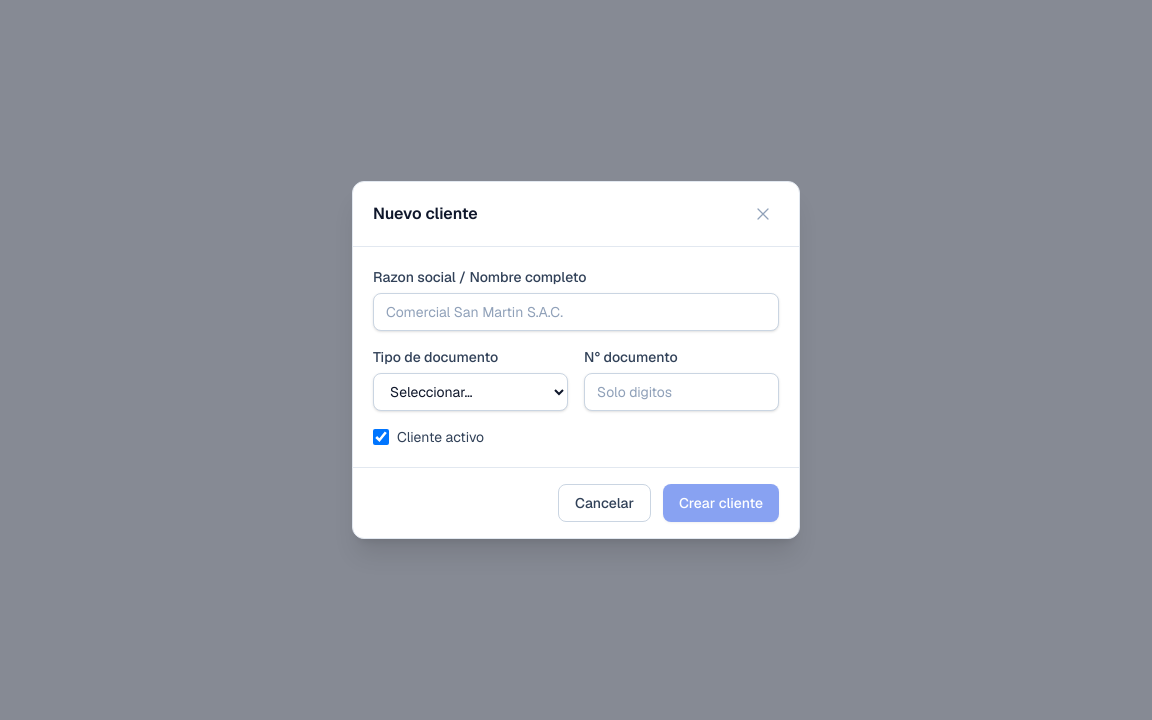
Scenario: ClientFormModal › shows validation hint when DNI has wrong number of digits
The image size is (1152, 720).
Select "DNI" in the dropdown labelled "Tipo de documento": (470, 392) [373,373,568,411]
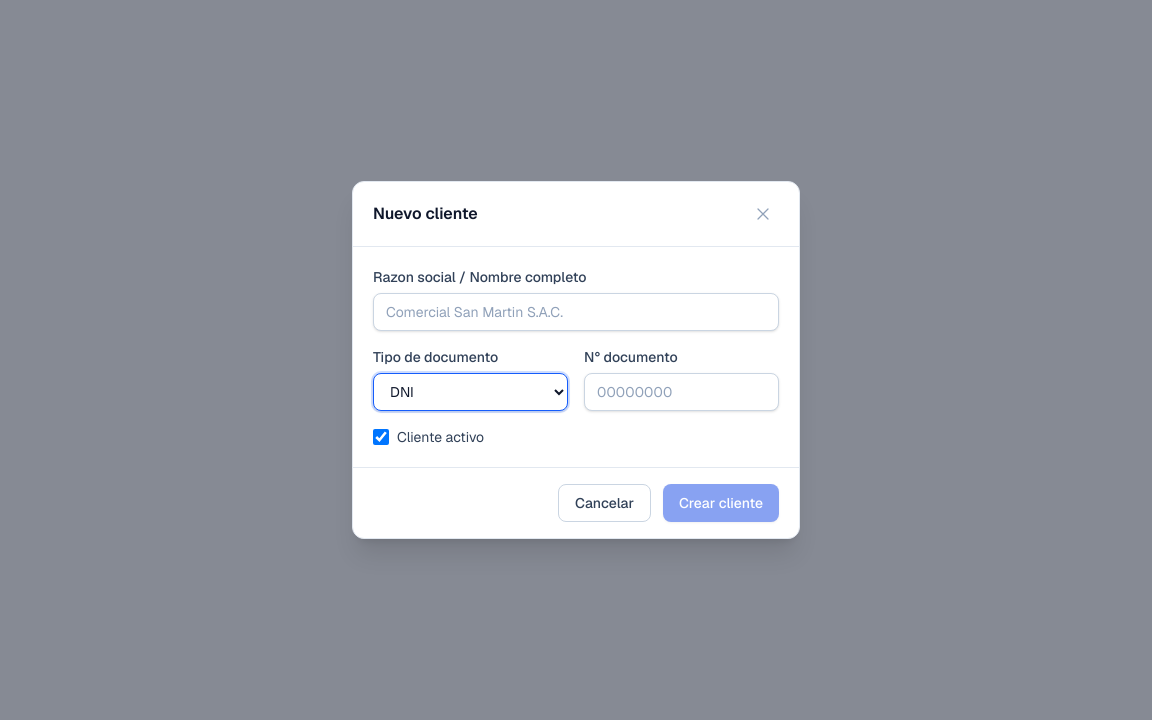
In the field labelled "N° documento": (682, 392) [584,373,779,411], type "1234567"
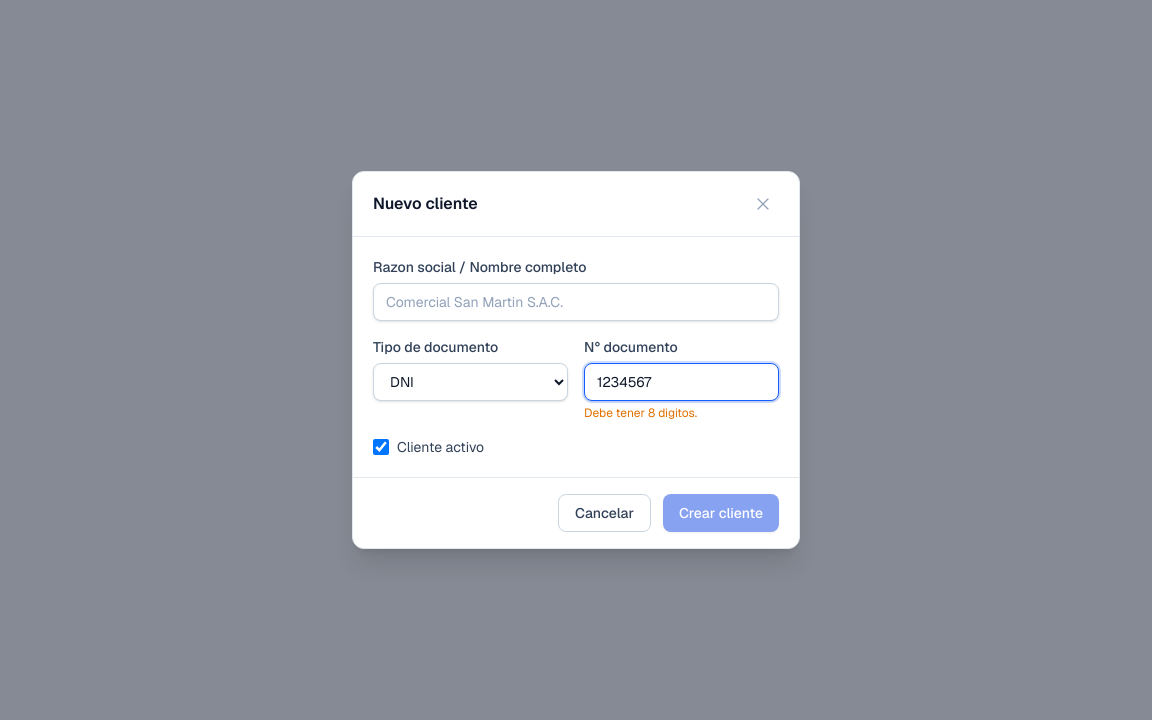
Expected: the text "Debe tener 8 digitos." is shown, [584,405,697,421]
